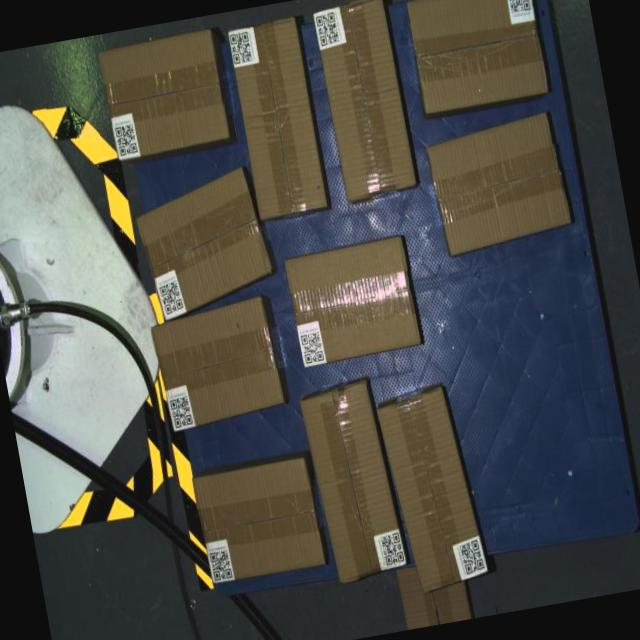box: (374, 384, 490, 595), (130, 164, 278, 324), (298, 380, 408, 584), (422, 111, 574, 257), (309, 0, 417, 202), (226, 16, 328, 220), (148, 295, 285, 433), (283, 234, 421, 367), (190, 455, 326, 585), (97, 28, 230, 160), (404, 0, 548, 114)
